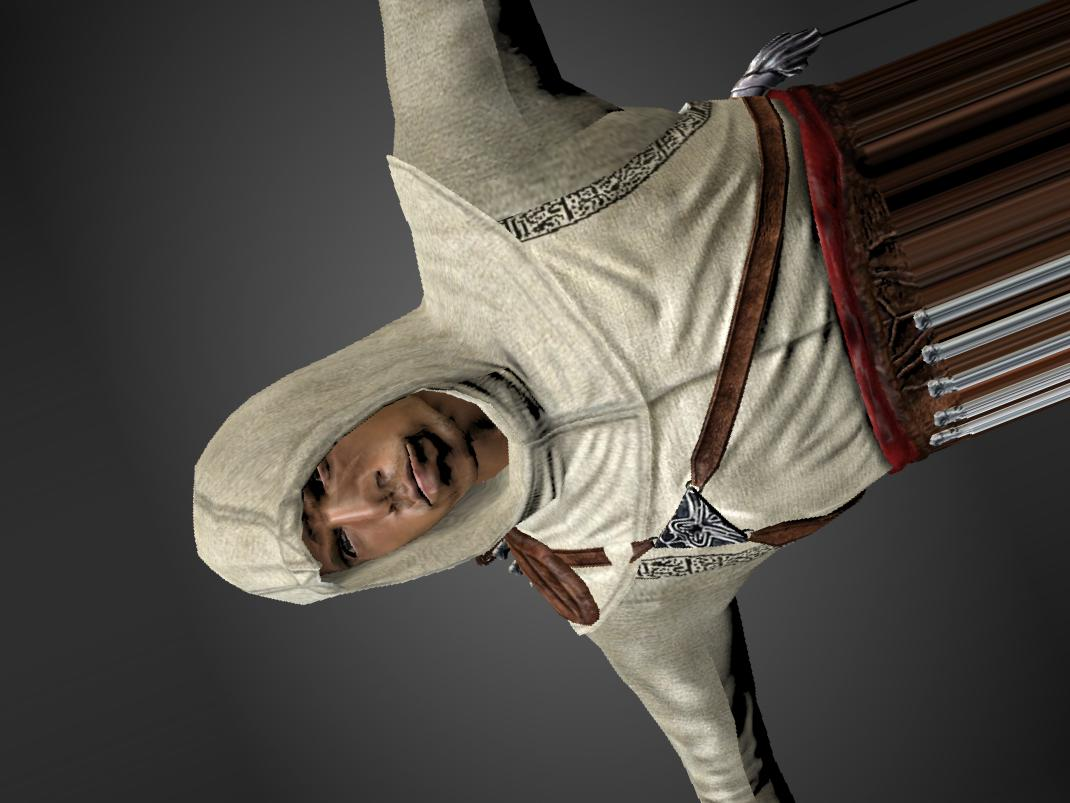clip: (598, 537, 644, 570)
